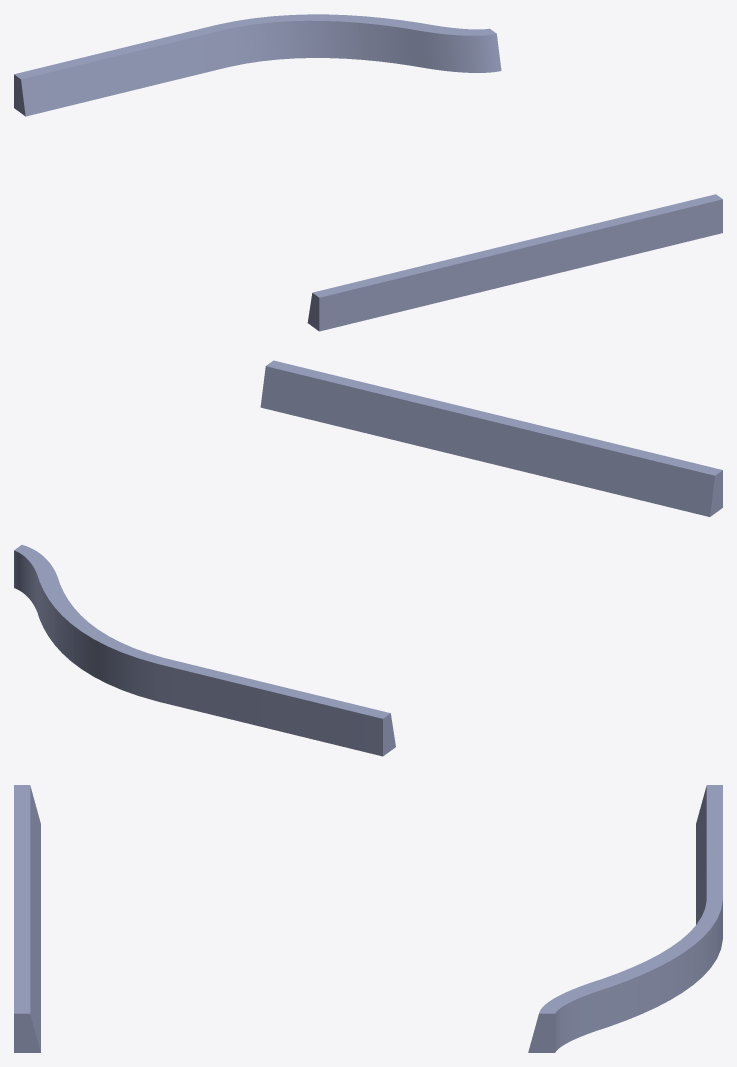
Rendered from road-side-entry-barrier.fbx.
3 renders of one model, top to bottom at view 1: azimuth 30°, elevation 25°; view 2: azimuth 150°, elevation 25°; view 3: azimuth 270°, elevation 25°, orthographic. The views are drawn at different scales.
Visible parts, largest first — view 1: road-side-entry-barrier; view 2: road-side-entry-barrier; view 3: road-side-entry-barrier.
Part boxes in pixels (box(x1,y1,x2,y2)): road-side-entry-barrier: box(14, 14, 722, 331); road-side-entry-barrier: box(14, 360, 722, 756); road-side-entry-barrier: box(14, 785, 722, 1052).
Bounding box in the file's own units: 100 × 8 × 131.
